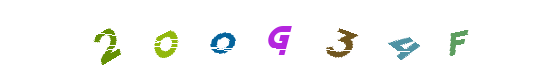0: (183, 0, 263, 80)
2: (95, 0, 175, 80)
3: (303, 0, 383, 80)
4: (344, 0, 424, 80)
F: (357, 0, 437, 80)
G: (239, 0, 319, 80)
O: (237, 0, 317, 80)
